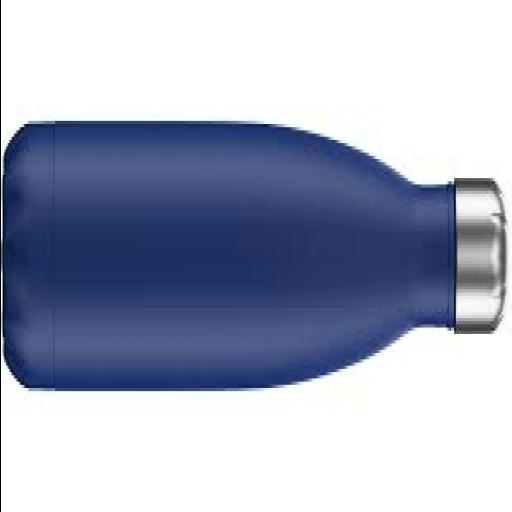blue-bottle: (3, 124, 505, 388)
